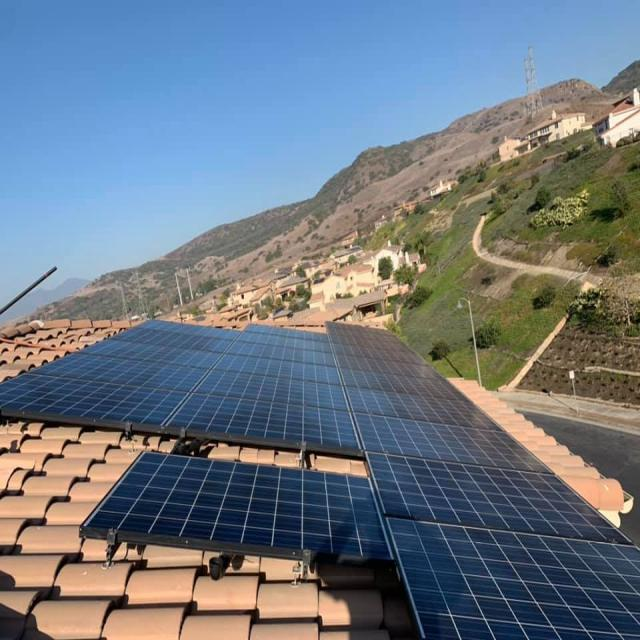clean-solar-panel: (326, 323, 640, 638), (0, 322, 361, 455), (81, 452, 391, 559)
